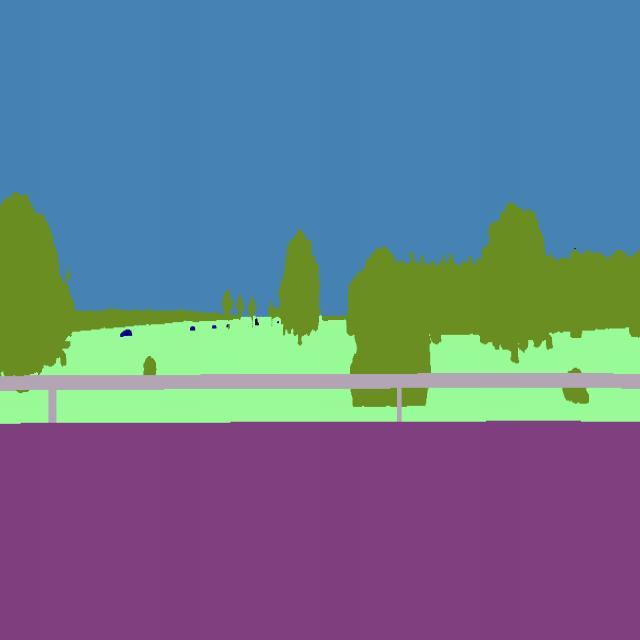safe: (118, 326, 136, 340), (188, 322, 197, 334)
